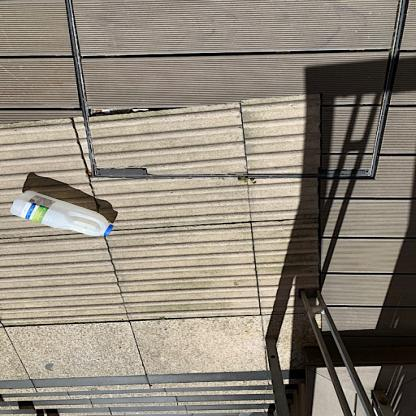trash: (0, 192, 115, 239)
